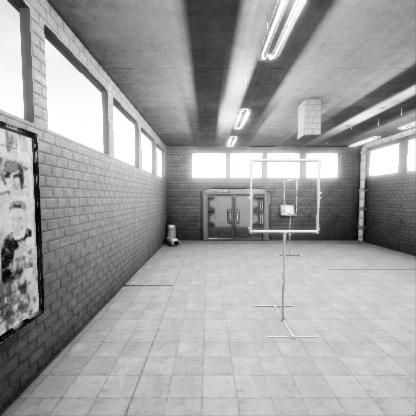gate: (251, 186, 325, 259), (284, 202, 298, 239)
